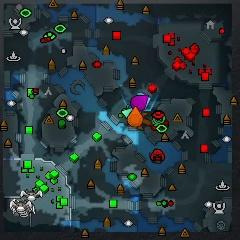p2: (122, 108, 133, 118)
p3: (131, 94, 149, 112)
p5: (127, 106, 143, 127)
x3: (136, 92, 151, 108)
x5: (137, 112, 152, 130)
